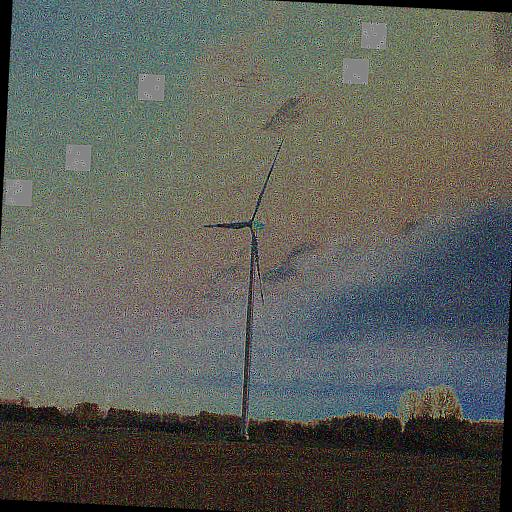wind turbine: (199, 134, 291, 441)
